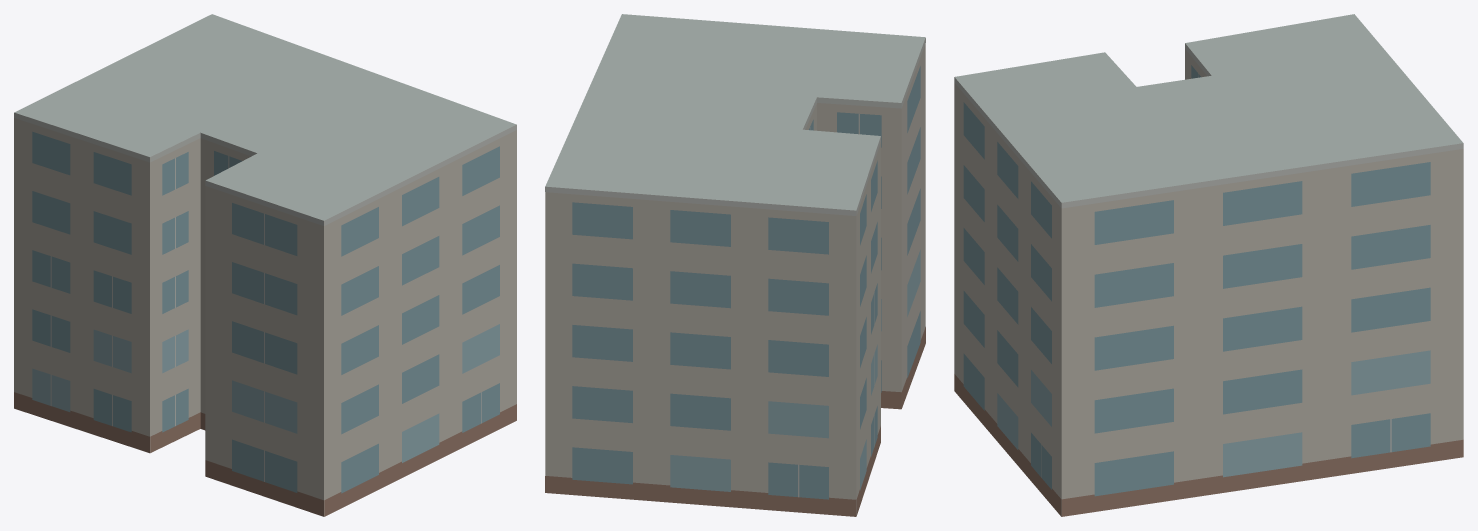
Rendered from survey-upis-32854446.glb.
3 views of the same model, side by side, from view 1: azimuth 30°, elevation 25°; view 2: azimuth 150°, elevation 25°; view 3: azimuth 270°, elevation 25° (orthographic). The views are drawn at different scales.
Visible parts, largest first — view 1: survey-upis-32854446.tmp; view 2: survey-upis-32854446.tmp; view 3: survey-upis-32854446.tmp.
Boxes of the visible parts, left/top/right/bottom form: survey-upis-32854446.tmp: left=14, top=14, right=516, bottom=516; survey-upis-32854446.tmp: left=545, top=14, right=925, bottom=516; survey-upis-32854446.tmp: left=954, top=14, right=1463, bottom=516.
Size of the model in its own units: 17.42 by 13.5 by 19.85.
